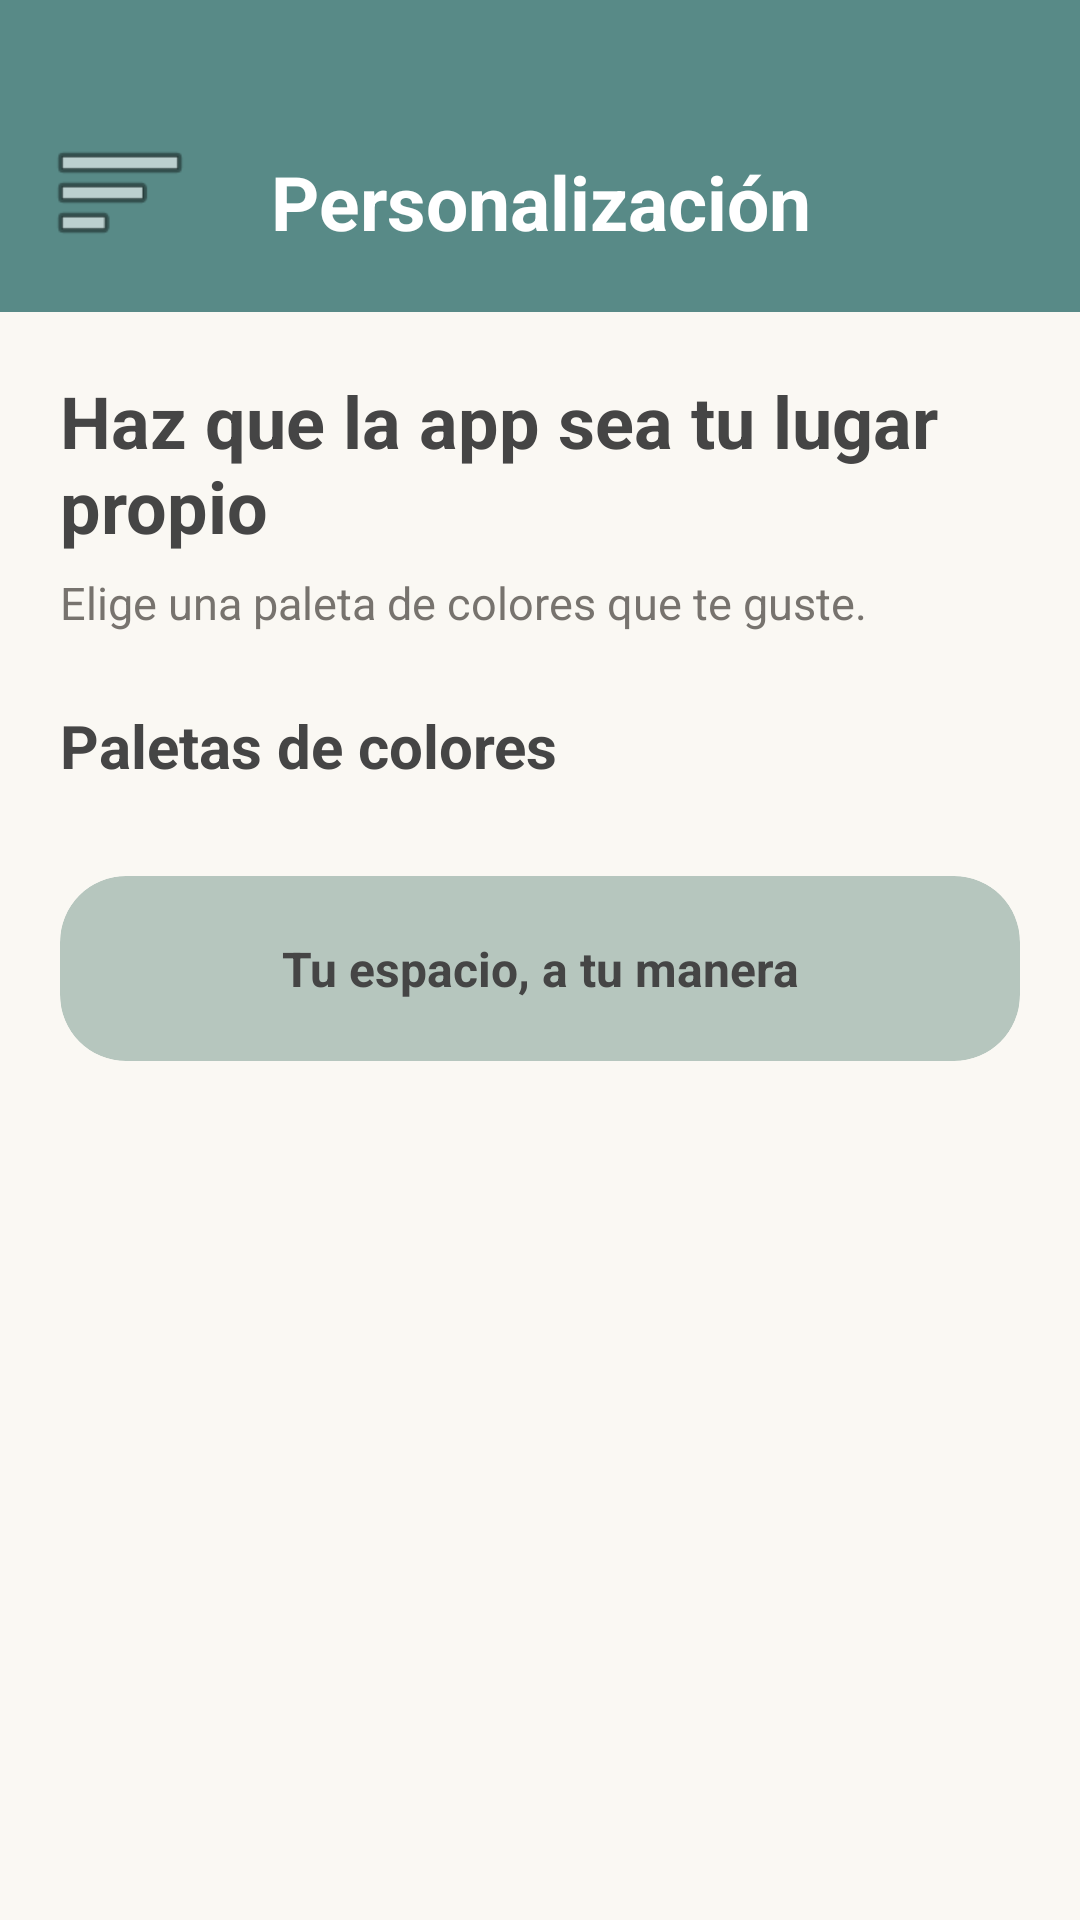

Icons on this 1080×1920 Android screen, each with its box as Rect(x1, y1, x2, y2):
Abrir menú: Rect(58, 153, 182, 233)
